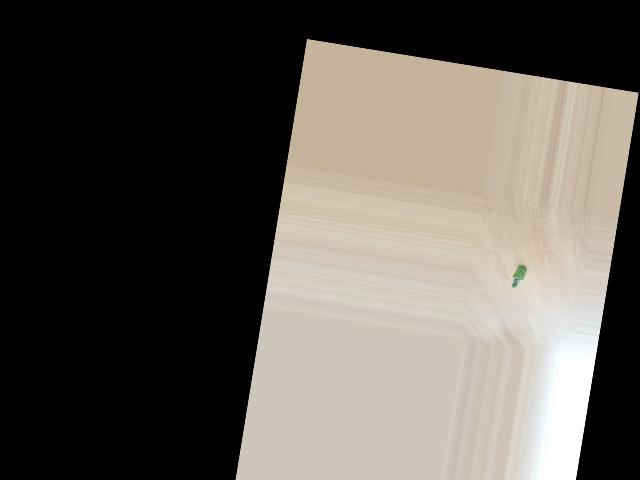beer: (511, 263, 528, 289)
